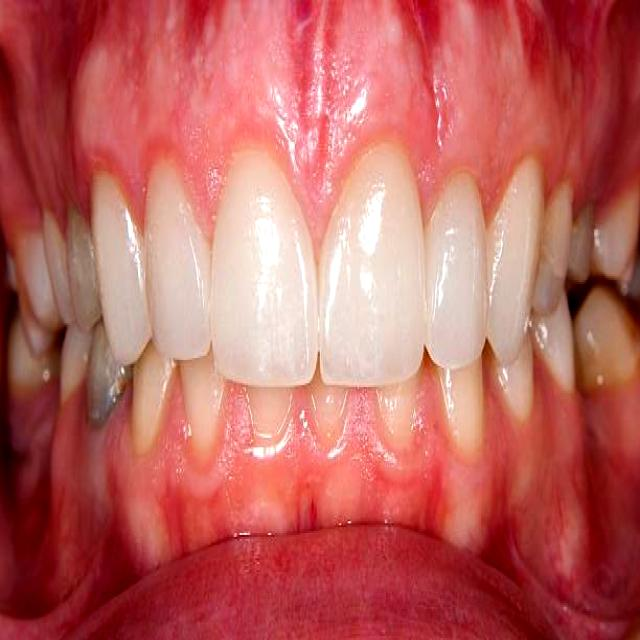gingivitis: (0, 356, 639, 615), (0, 0, 639, 237)
